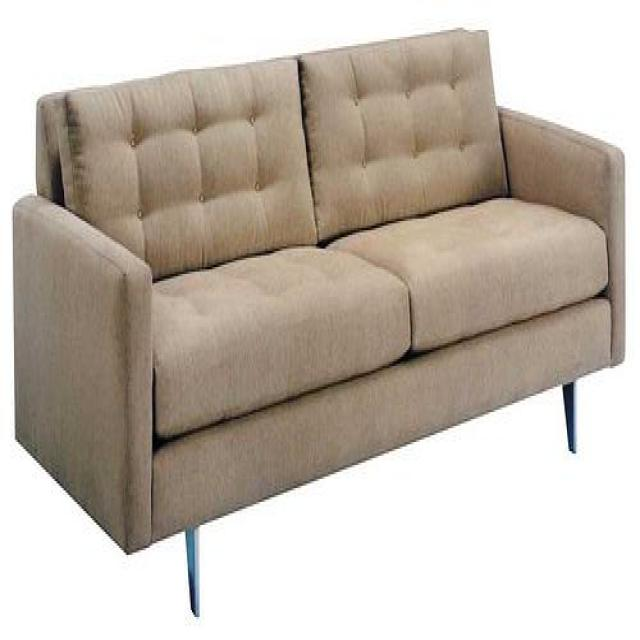sofa: (12, 24, 626, 610)
